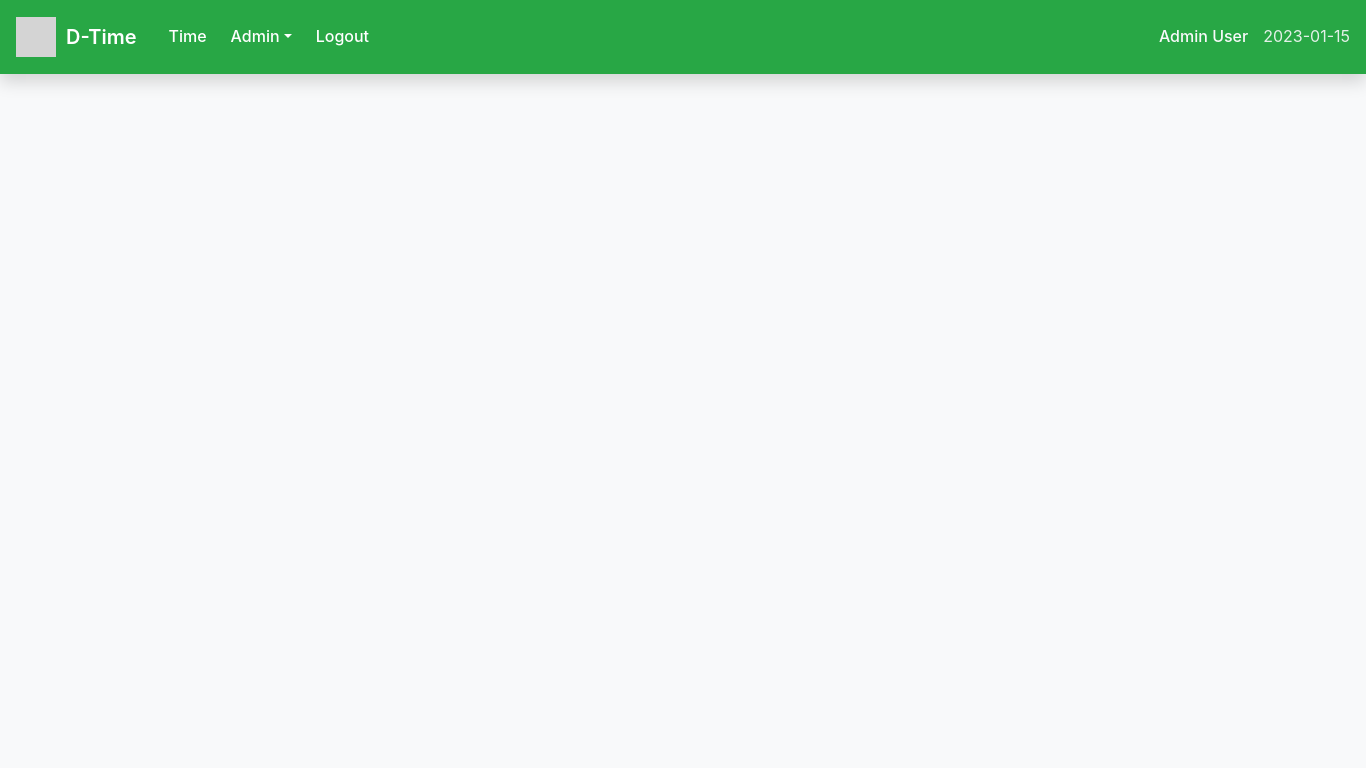
Test: NavigationMenu › Admin navigation › should show admin-specific dropdown options
Click the button "Admin" at (261, 37), box [223,16,300,58]
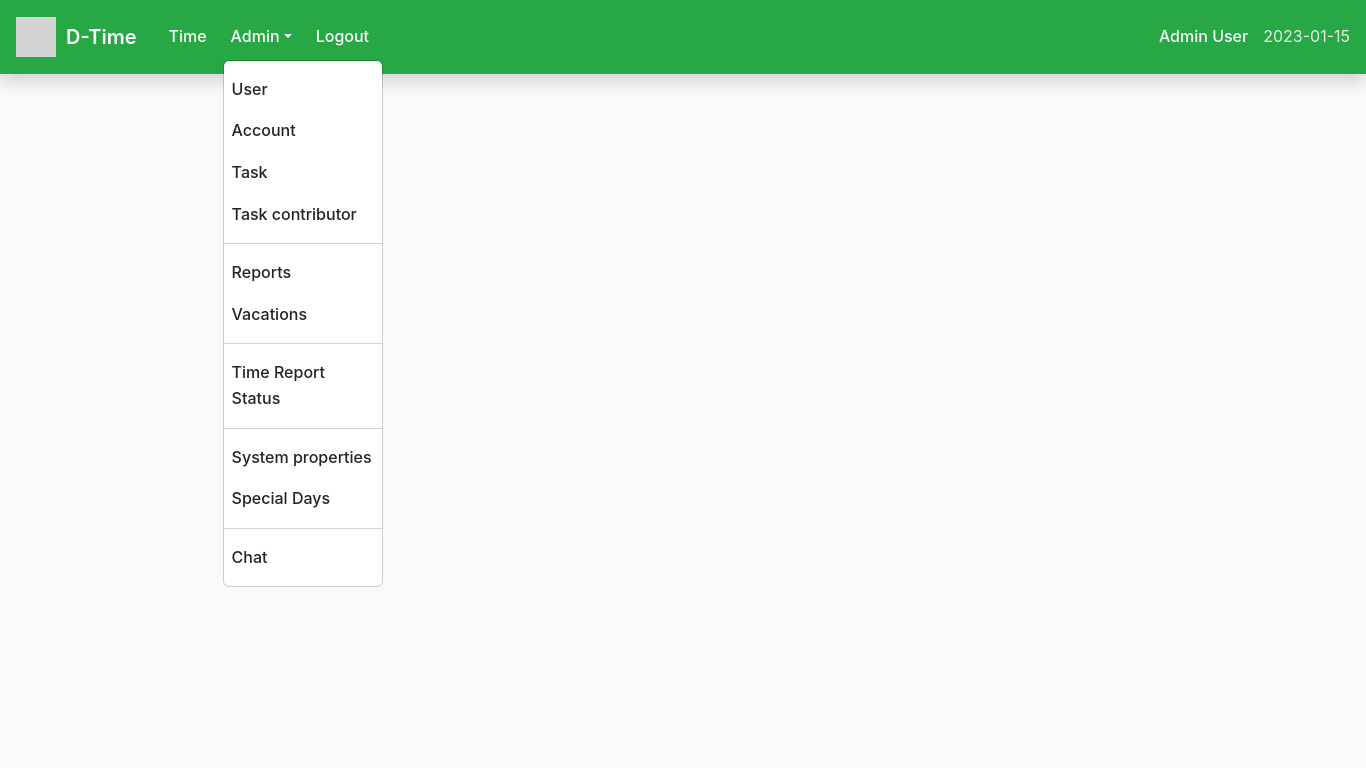
Expected: the link "User" is shown, [232,79,268,99]
Expected: the link "Account" is shown, [232,120,296,140]
Expected: the link "Task" is shown, [232,162,268,182]
